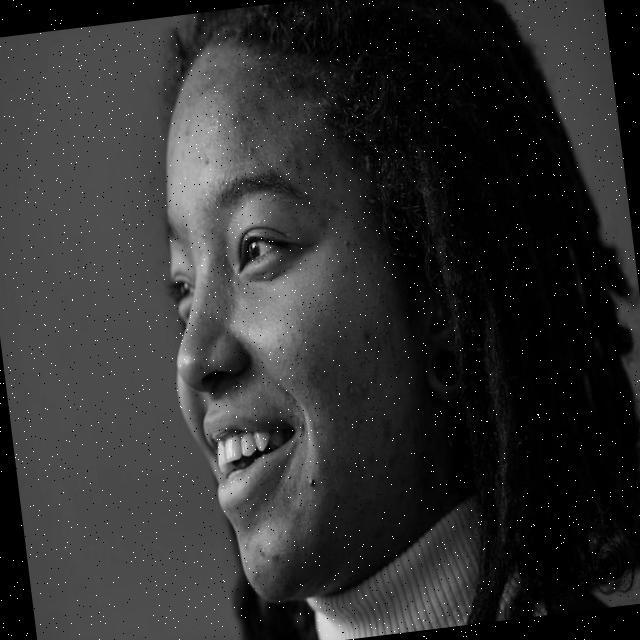Happiness: (130, 26, 427, 616)
